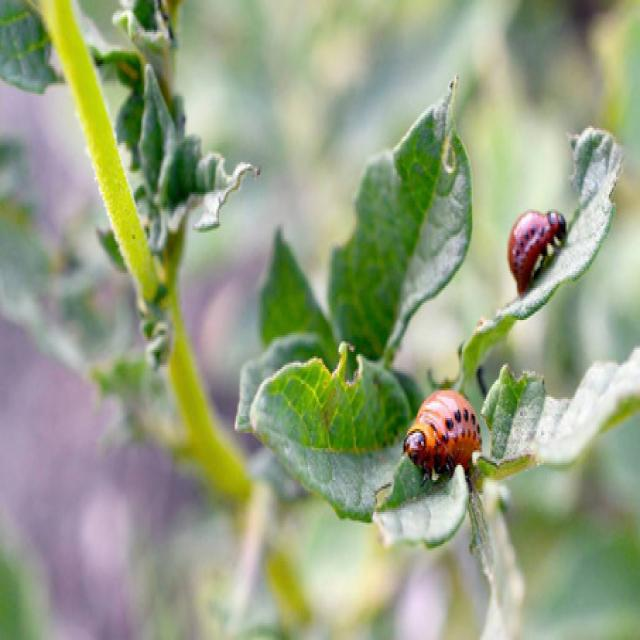ShuCaiHuaBanChong-Larva-: (397, 375, 491, 493), (505, 191, 569, 300)
